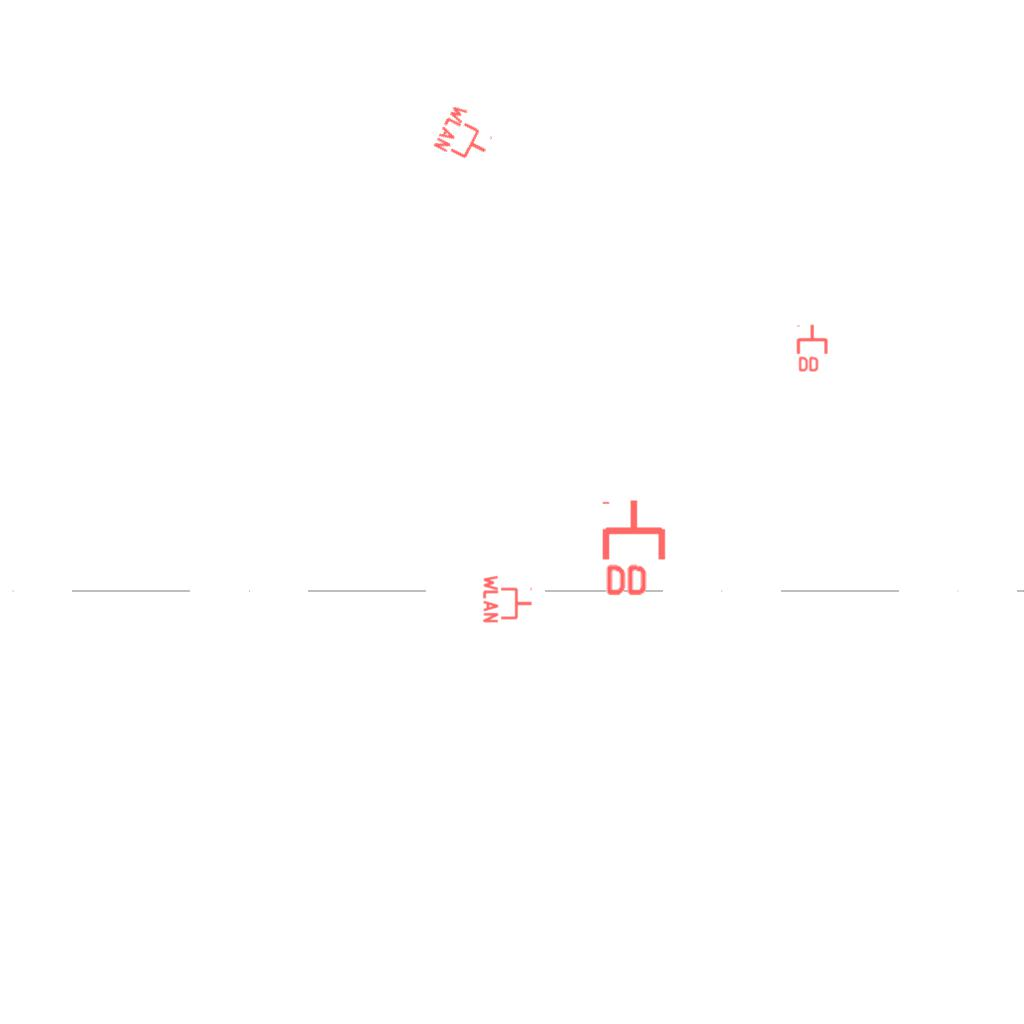Datenanschluss_zweifach: (601, 497, 670, 600), (796, 323, 830, 374)
WLAN: (431, 101, 501, 171), (482, 573, 534, 625)
